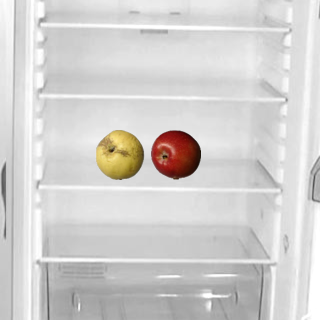Apple Braeburn: (150, 129, 200, 179)
Apple Golden 1: (94, 129, 144, 179)
